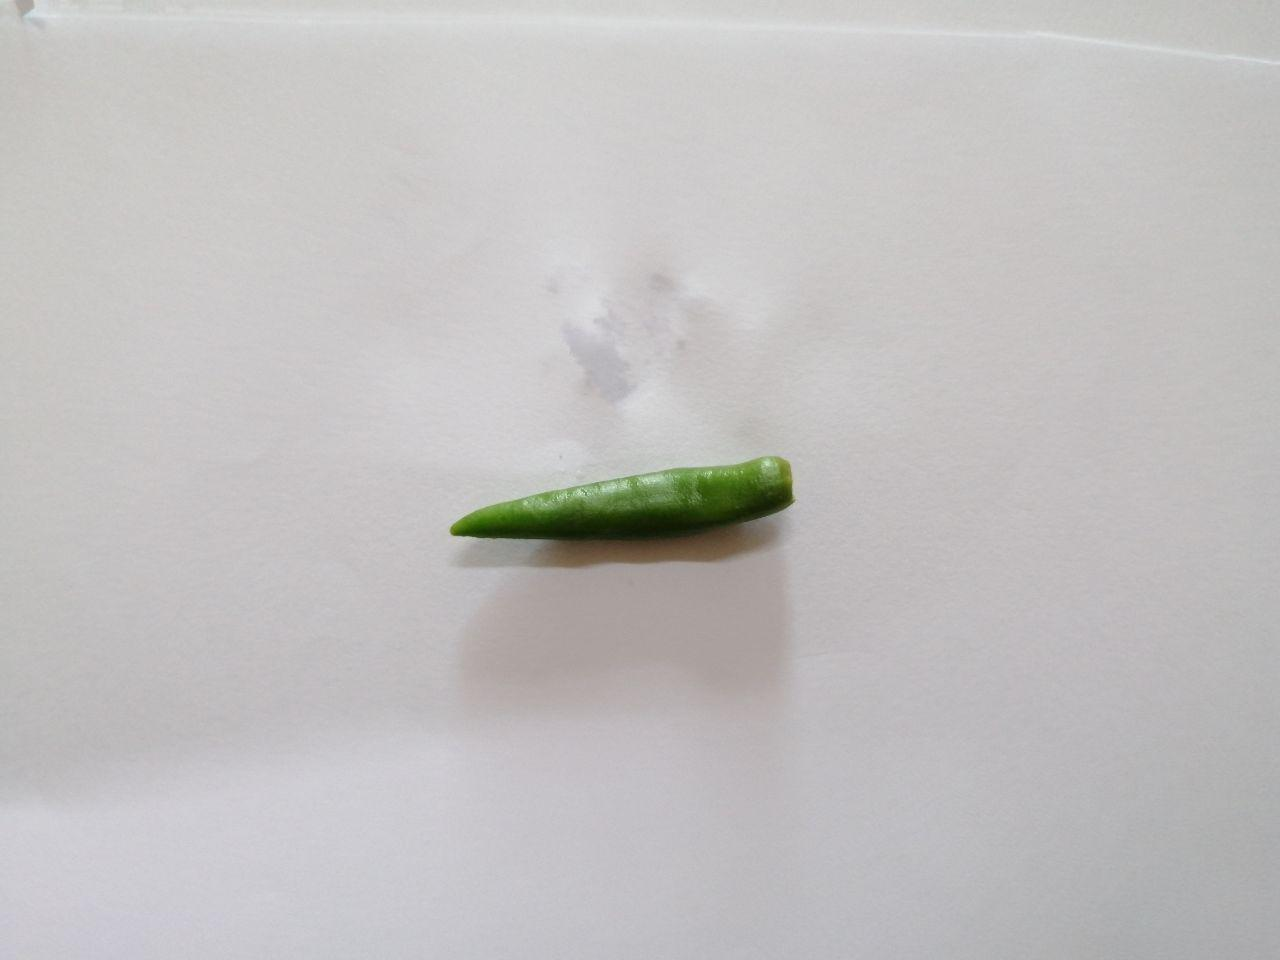lada hijau: (406, 436, 834, 590)
